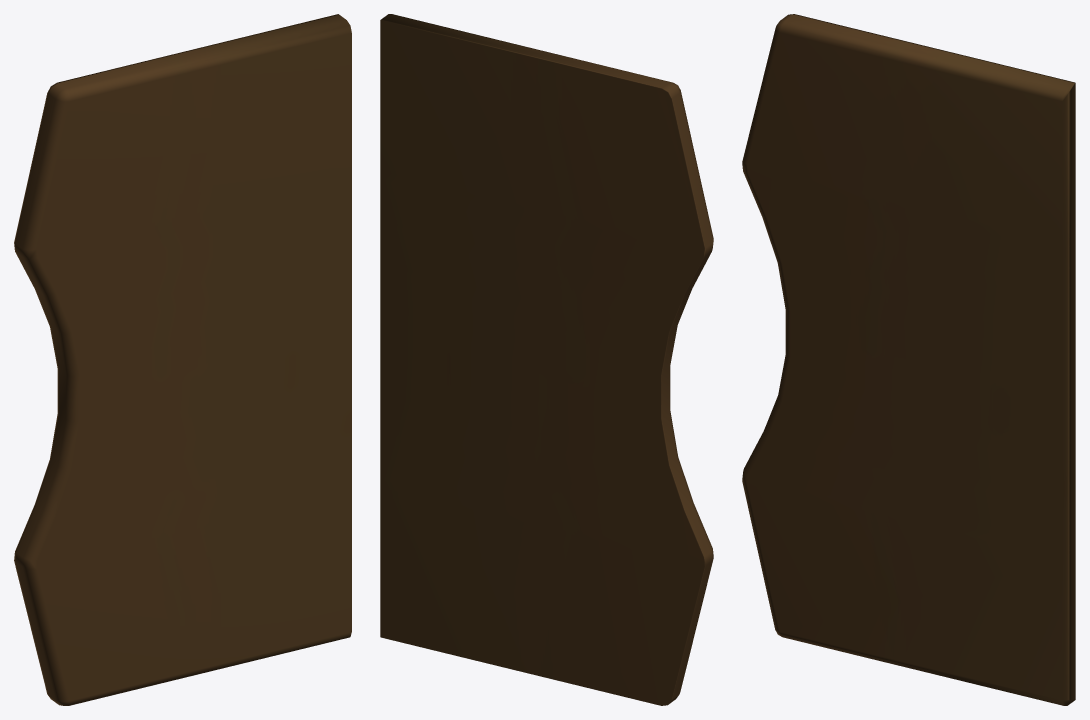
Rendered from mazeDoor2_model.glb.
3 renders of one model, left to right at view 1: azimuth 30°, elevation 25°; view 2: azimuth 150°, elevation 25°; view 3: azimuth 330°, elevation 25°, orthographic.
Visible parts, largest first — view 1: mazeDoor2_t9; view 2: mazeDoor2_t9; view 3: mazeDoor2_t9.
Part boxes in pixels (<box>): mazeDoor2_t9: <box>14,14,351,705</box>; mazeDoor2_t9: <box>380,14,713,705</box>; mazeDoor2_t9: <box>742,14,1075,705</box>.
Size of what is drawn, in the model's own units: 1.13 by 2.06 by 0.0815.
Materials: 1 (1 with a texture image).
